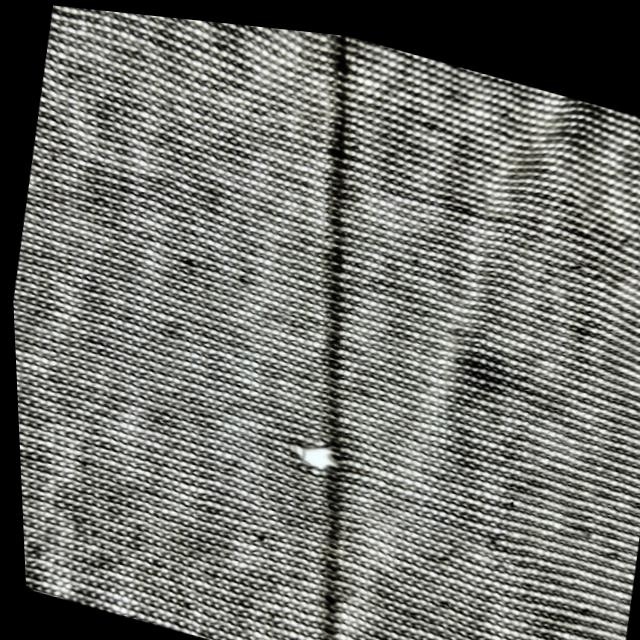Hole: (433, 319, 535, 418), (434, 311, 524, 401), (279, 420, 355, 486)
